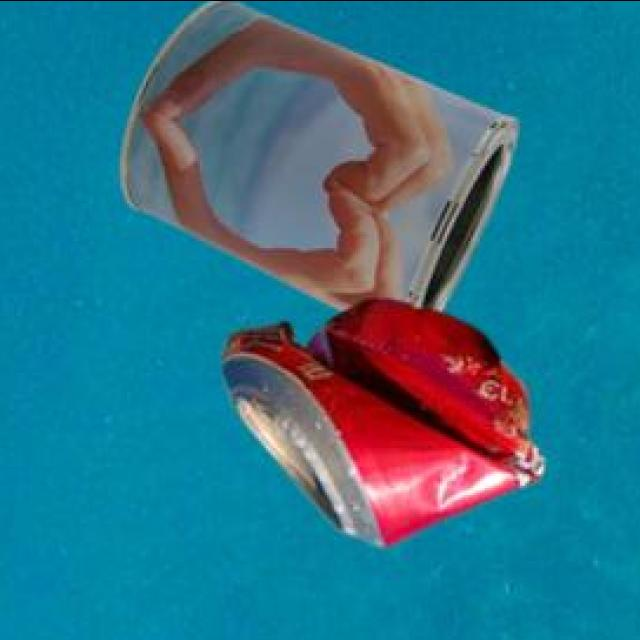logam: (116, 1, 514, 314), (220, 302, 540, 549)
